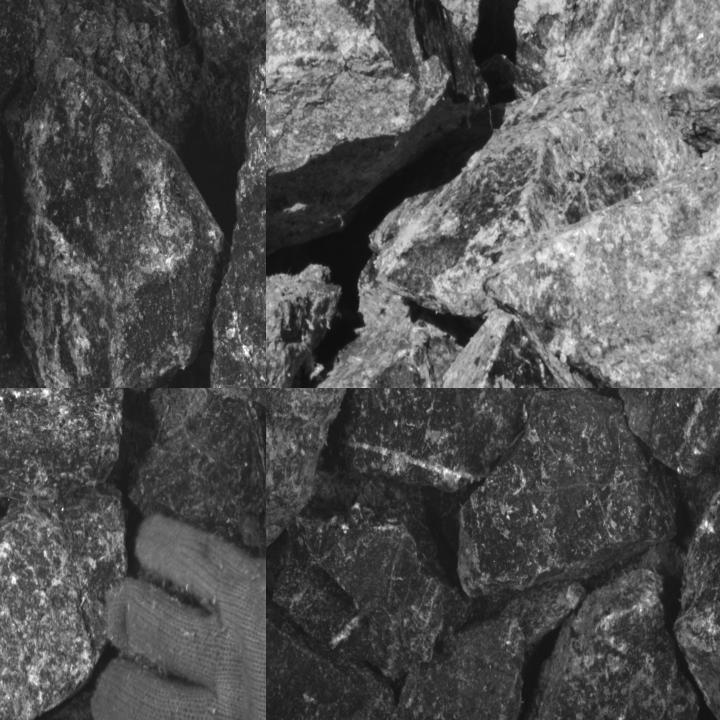stone: (372, 78, 693, 313), (266, 0, 496, 300), (20, 57, 223, 387), (458, 388, 682, 620), (273, 494, 474, 680), (513, 568, 716, 719), (378, 580, 591, 719), (0, 487, 126, 719), (523, 0, 719, 144), (266, 248, 459, 387), (27, 0, 215, 140), (342, 309, 656, 387), (131, 388, 265, 558), (329, 388, 536, 494), (513, 388, 719, 480), (266, 583, 397, 719), (266, 388, 350, 576), (0, 601, 127, 719), (0, 388, 124, 499), (180, 0, 265, 71)
